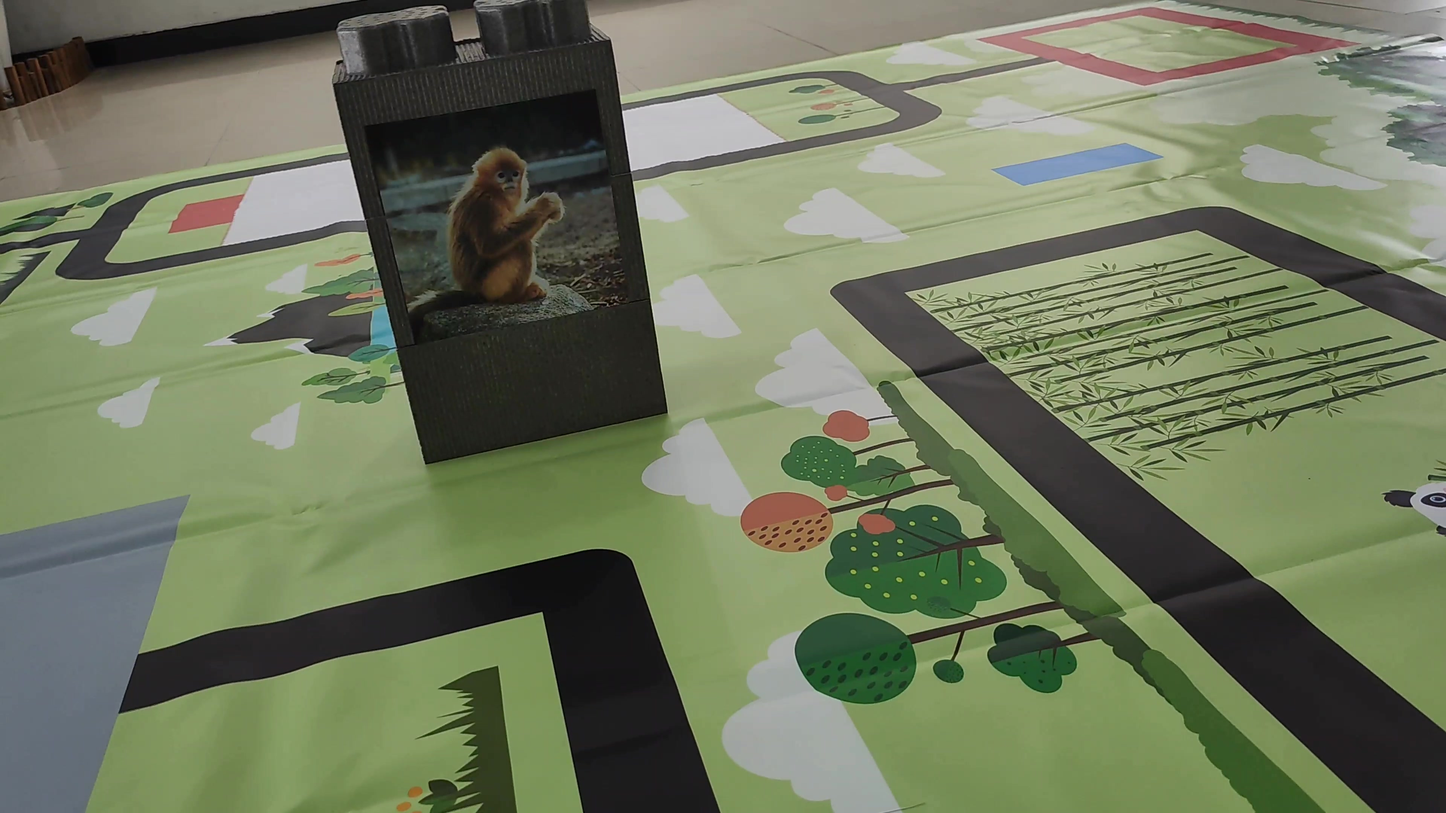monkey: (389, 142, 591, 338)
